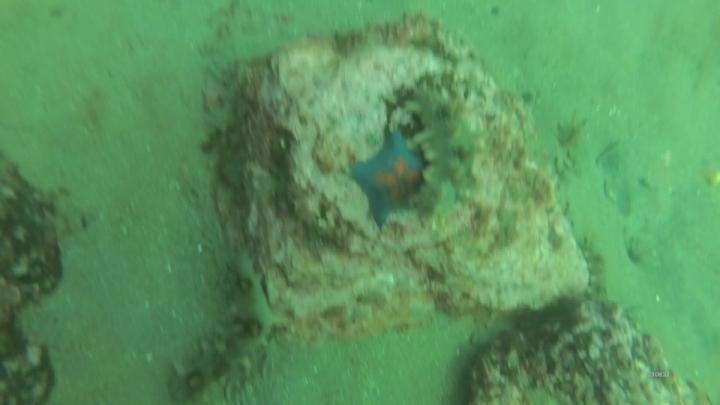holothurian: (168, 247, 283, 403), (394, 74, 489, 228)
starfish: (346, 127, 430, 232)
